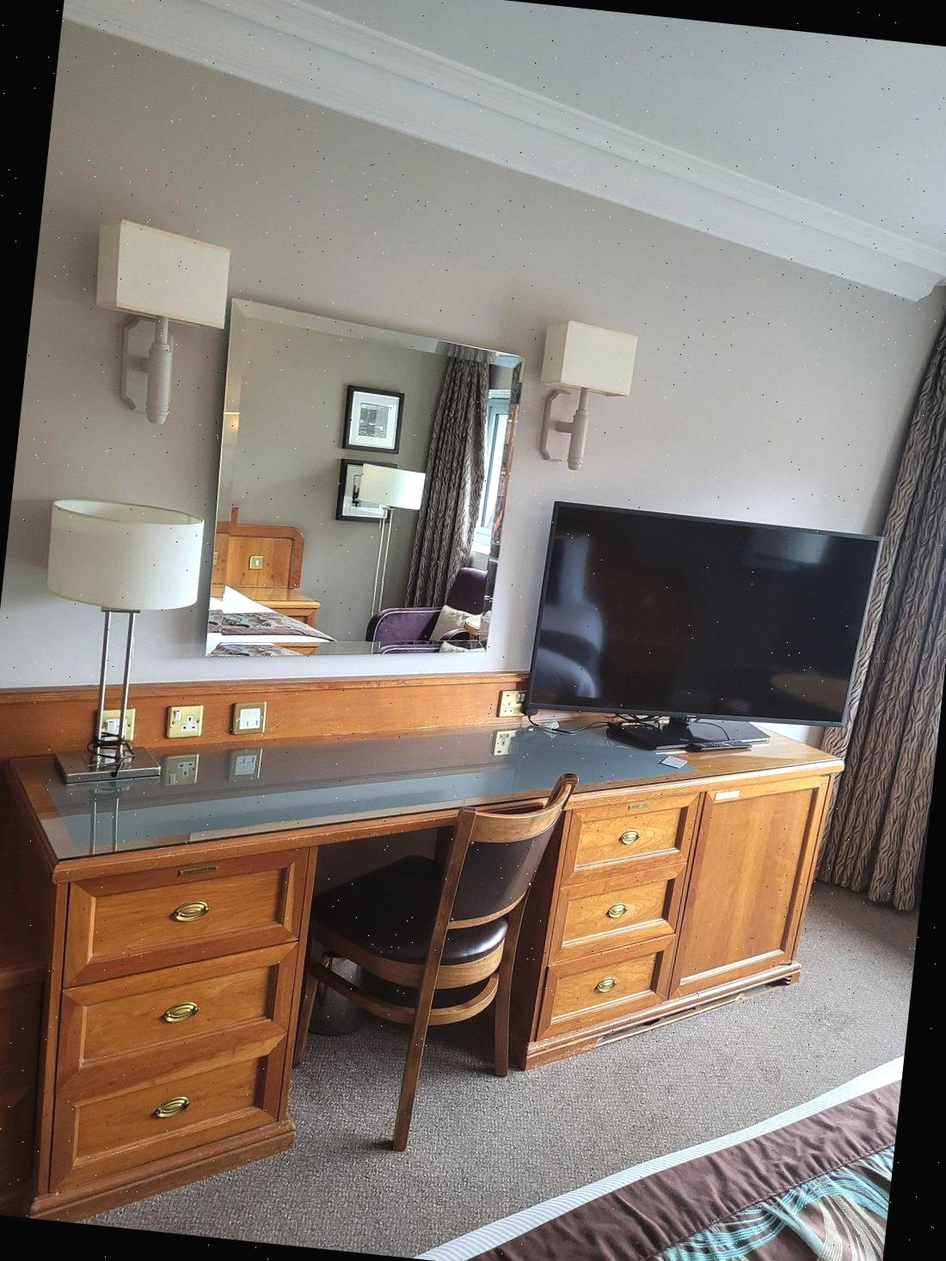chair: (296, 776, 574, 1157)
clean_floor: (87, 882, 916, 1251)
lamp: (0, 494, 206, 785), (94, 225, 227, 427), (539, 329, 638, 462)
organized table: (6, 710, 839, 1195)
